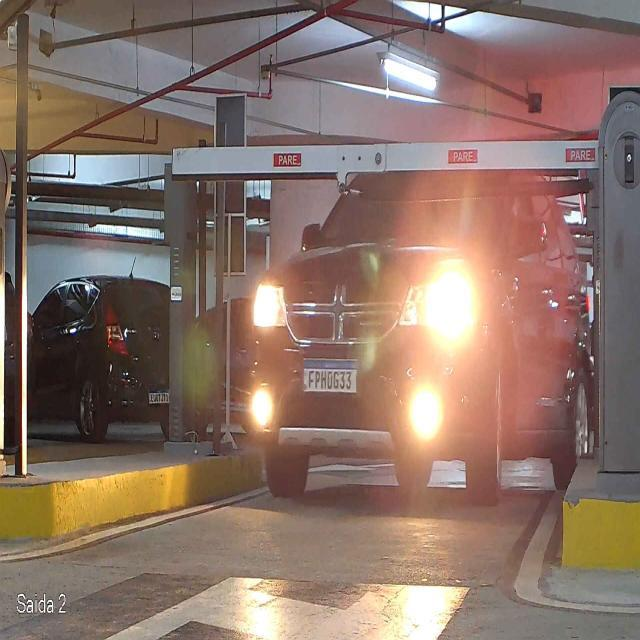mercosul_plate: (300, 356, 361, 394)
